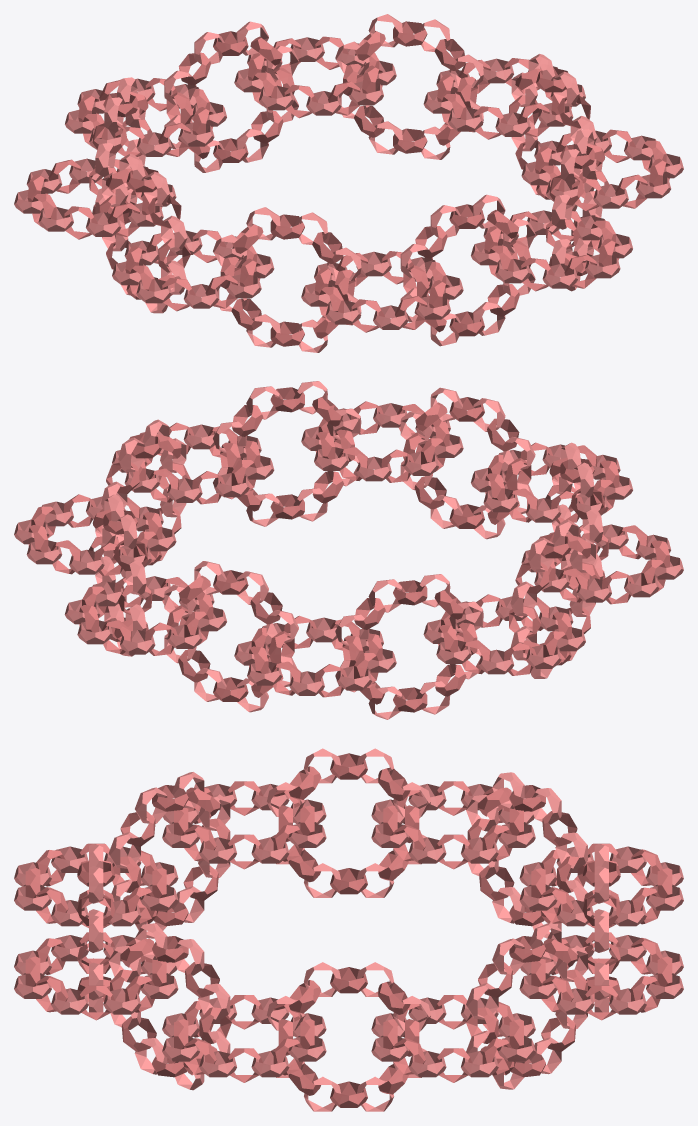
File: fractalhexagonaltrapezohedronantiprismtoroid2.glb
The picture shows the model from 3 angles, top to bottom: view 1: azimuth 30°, elevation 25°; view 2: azimuth 150°, elevation 25°; view 3: azimuth 270°, elevation 25°; orthographic projection. The views are drawn at different scales.
Bounding box in the file's own units: 10.6 × 2.6 × 10.6.
